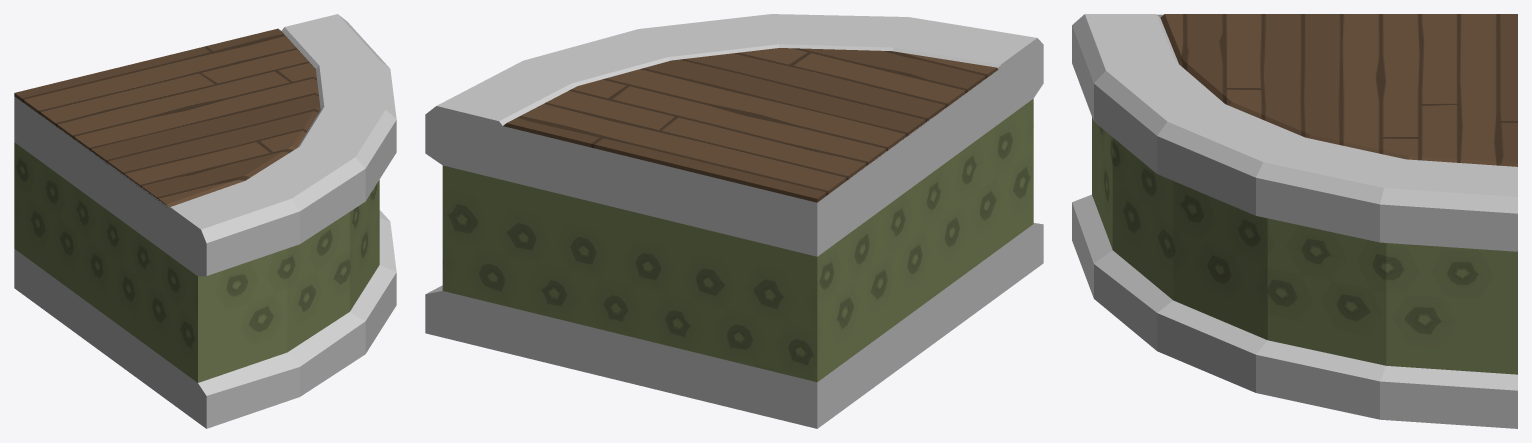
The model's file is SM_Prop_Platform_01_Corner_L_01.fbx.
3 views of the same model, side by side, from view 1: azimuth 30°, elevation 25°; view 2: azimuth 150°, elevation 25°; view 3: azimuth 270°, elevation 25° (orthographic). The views are drawn at different scales.
Parts seen in each view (by area): view 1: SM_Prop_Platform_01_Corner_L_01; view 2: SM_Prop_Platform_01_Corner_L_01; view 3: SM_Prop_Platform_01_Corner_L_01.
Part boxes in pixels (left/top/right/bottom): SM_Prop_Platform_01_Corner_L_01: left=14, top=14, right=396, bottom=428; SM_Prop_Platform_01_Corner_L_01: left=425, top=14, right=1043, bottom=428; SM_Prop_Platform_01_Corner_L_01: left=1072, top=14, right=1517, bottom=428.
Size of the model in its own units: 178 by 100 by 178.
